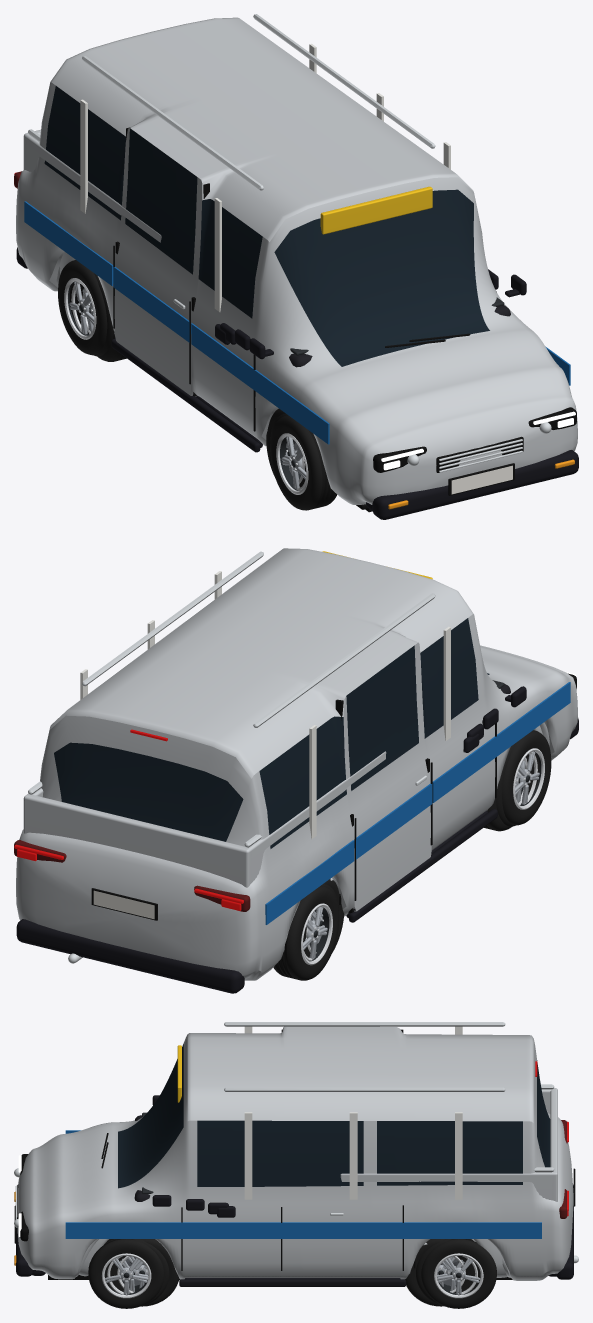
File: arabalar.glb
3 renders of one model, top to bottom at view 1: azimuth 30°, elevation 25°; view 2: azimuth 150°, elevation 25°; view 3: azimuth 270°, elevation 25°, orthographic. The views are drawn at different scales.
Visible parts, largest first — view 1: minibus_govde, minibus_ayrinti, minibus_surgu, minibus_teker_FR, minibus_teker_RR, minibus_surgu_ayrinti, kamyonet_kasa, minibus_far_yuva, minibus_plaka, kamyonet_teker_RR, minibus_far; view 2: minibus_govde, minibus_ayrinti, minibus_surgu, kamyonet_kasa, minibus_teker_RR, minibus_teker_FR, minibus_surgu_ayrinti, minibus_stop, minibus_plaka, minibus_stop_yuva, kamyonet_teker_FR, kamyonet_ayrinti; view 3: minibus_govde, minibus_ayrinti, minibus_teker_FL, minibus_teker_RL, kamyonet_kasa, spor_teker_RL, spor_teker_FL, kamyonet_teker_FL, kamyonet_teker_RL, spor_govde, kamyonet_ayrinti, spor_ayrinti.
Boxes of the visible parts, x1,y1,x2,y2 form: minibus_govde: [16, 17, 577, 504]; minibus_ayrinti: [16, 14, 578, 519]; minibus_surgu: [114, 128, 202, 395]; minibus_teker_FR: [270, 415, 337, 510]; minibus_teker_RR: [58, 260, 107, 355]; minibus_surgu_ayrinti: [113, 245, 191, 384]; kamyonet_kasa: [23, 129, 161, 242]; minibus_far_yuva: [373, 407, 576, 472]; minibus_plaka: [451, 465, 512, 494]; kamyonet_teker_RR: [69, 273, 113, 356]; minibus_far: [381, 411, 575, 470]; minibus_govde: [16, 548, 577, 980]; minibus_ayrinti: [16, 551, 578, 993]; minibus_surgu: [343, 642, 431, 911]; kamyonet_kasa: [23, 751, 386, 887]; minibus_teker_RR: [273, 885, 339, 980]; minibus_teker_FR: [502, 730, 551, 825]; minibus_surgu_ayrinti: [354, 762, 432, 900]; minibus_stop: [14, 729, 243, 910]; minibus_plaka: [93, 890, 154, 919]; minibus_stop_yuva: [14, 840, 250, 911]; kamyonet_teker_FR: [496, 743, 539, 826]; kamyonet_ayrinti: [28, 708, 498, 918]; minibus_govde: [17, 1026, 573, 1280]; minibus_ayrinti: [14, 1022, 578, 1286]; minibus_teker_FL: [88, 1239, 164, 1308]; minibus_teker_RL: [421, 1239, 496, 1308]; kamyonet_kasa: [340, 1088, 557, 1201]; spor_teker_RL: [405, 1239, 475, 1306]; spor_teker_FL: [110, 1239, 179, 1306]; kamyonet_teker_FL: [104, 1239, 169, 1306]; kamyonet_teker_RL: [416, 1239, 480, 1306]; spor_govde: [79, 1239, 507, 1277]; kamyonet_ayrinti: [32, 1084, 556, 1279]; spor_ayrinti: [49, 1206, 508, 1279].
Size of the model in its own units: 2.18 by 2.09 by 5.1.
